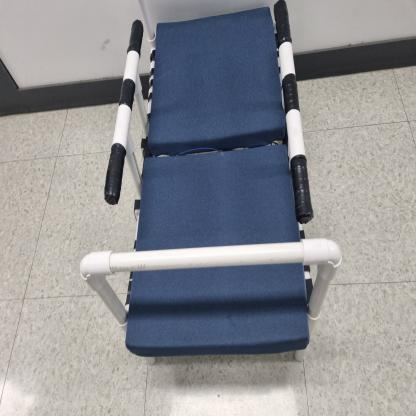np: (84, 5, 345, 365)
